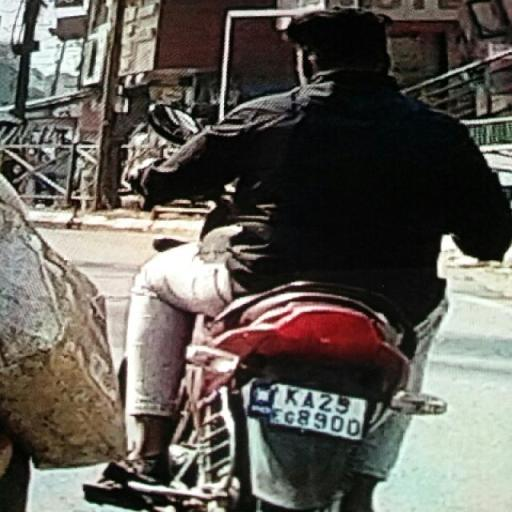bike: (123, 2, 502, 512)
numberplate: (260, 380, 371, 442)
withouthelmet: (298, 9, 390, 79)
